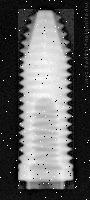Neodent: (18, 9, 74, 189)
